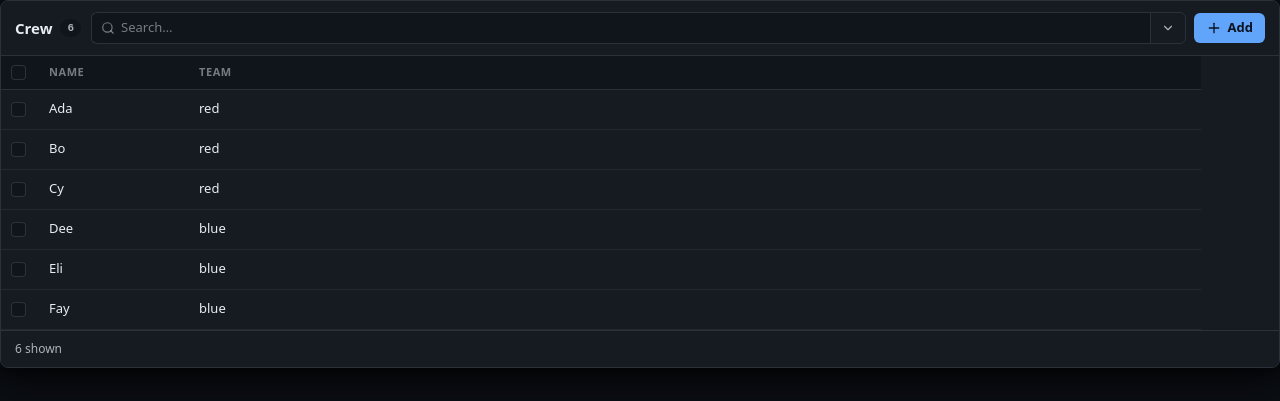
Test: the selection band without a pager › reports the selection when pagination is off
Expected: the text "Ada" is shown, x1=49 y1=99 x2=73 y2=117
Click the checkbox named "Select row" next to "Ada" at (18, 109), box x1=11 y1=102 x2=26 y2=116
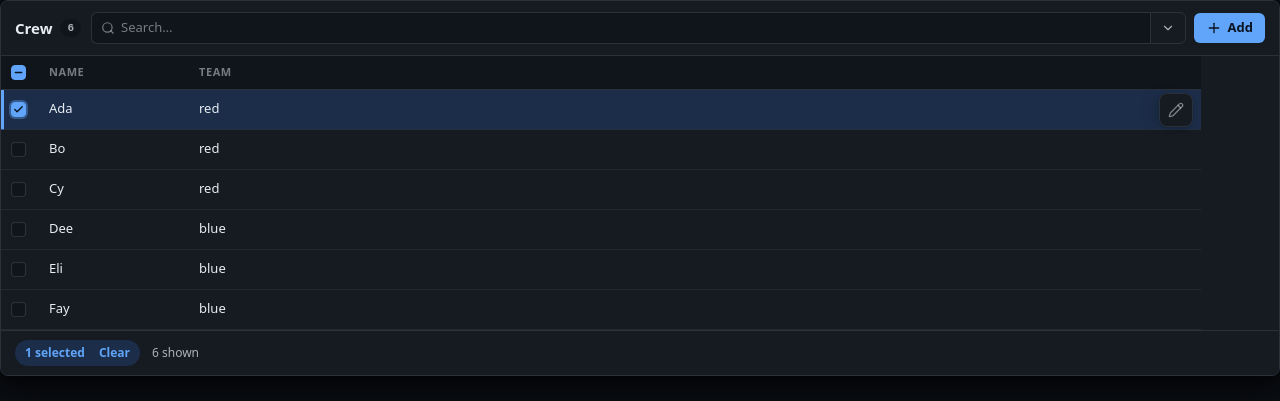
Result: the button "Clear" is shown
Result: the text "1 selected Clear" is shown at x1=15 y1=340 x2=140 y2=366
Click the button "Clear" at (114, 352), box x1=93 y1=342 x2=136 y2=364
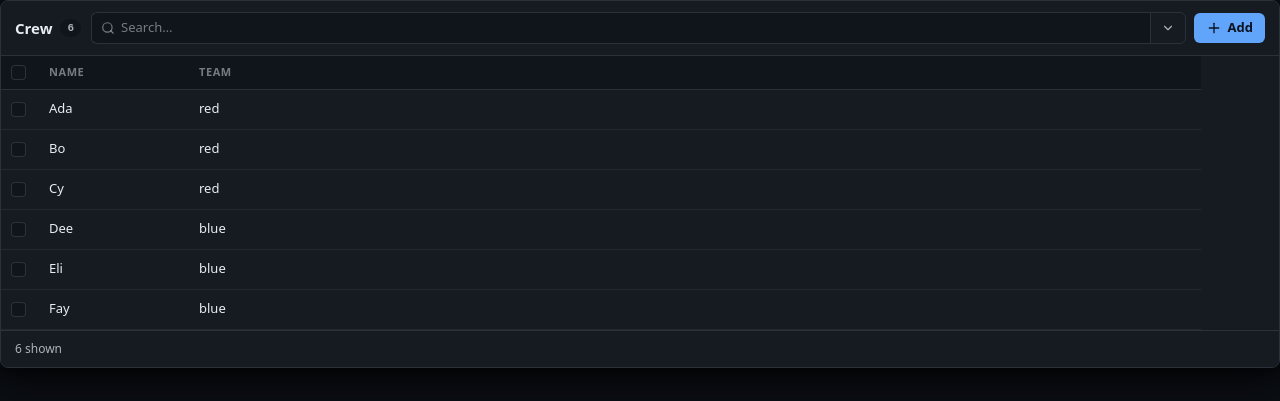
Result: the text "1 selected" is gone
